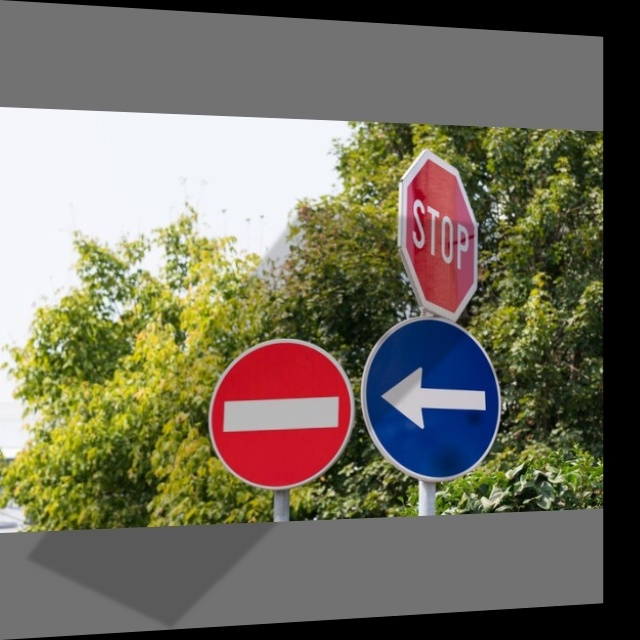Compulsory_Turn_Left: (362, 312, 502, 486)
